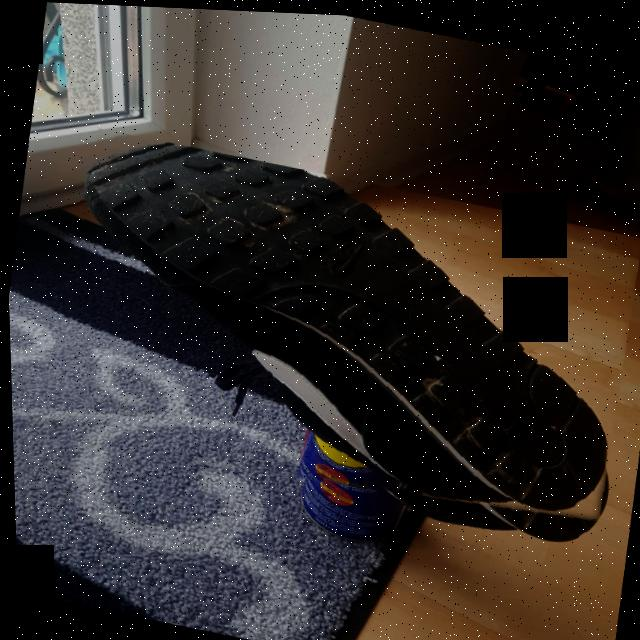shoe: (38, 124, 640, 552)
